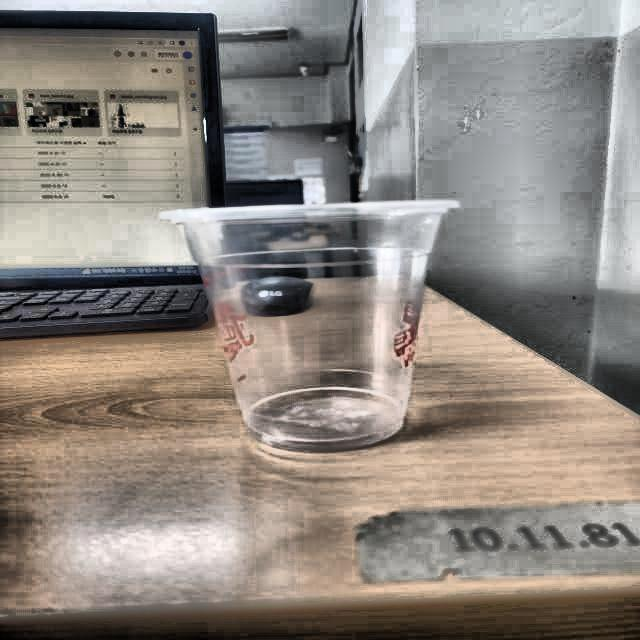plastic cup: (155, 199, 462, 452)
